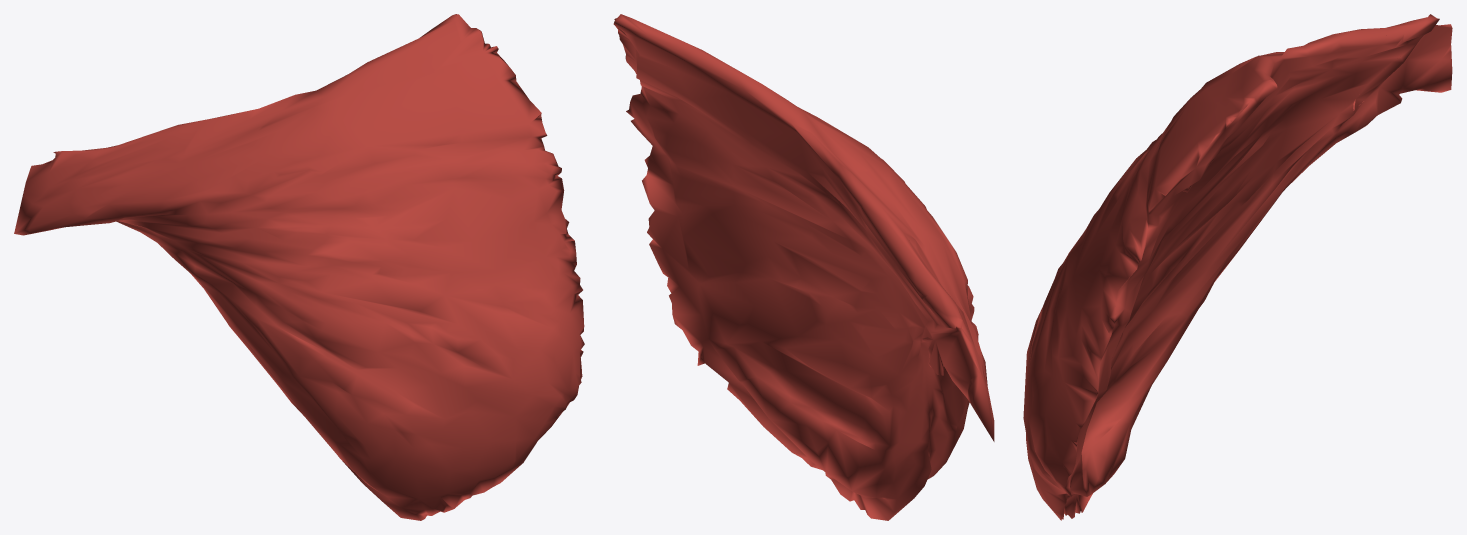
File: musculos-sternocostal-head-of-pectoralis-major-muscle-r.glb
3 renders of one model, left to right at view 1: azimuth 30°, elevation 25°; view 2: azimuth 150°, elevation 25°; view 3: azimuth 270°, elevation 25°, orthographic. The views are drawn at different scales.
Parts seen in each view (by area): view 1: Sternocostal head of pectoralis major muscle.r; view 2: Sternocostal head of pectoralis major muscle.r; view 3: Sternocostal head of pectoralis major muscle.r.
Part boxes in pixels (x1,y1,x2,y2): Sternocostal head of pectoralis major muscle.r: (14, 14, 584, 520); Sternocostal head of pectoralis major muscle.r: (613, 14, 994, 520); Sternocostal head of pectoralis major muscle.r: (1023, 14, 1452, 520).
Bounding box in the file's own units: 0.1901 × 0.1822 × 0.1423.
